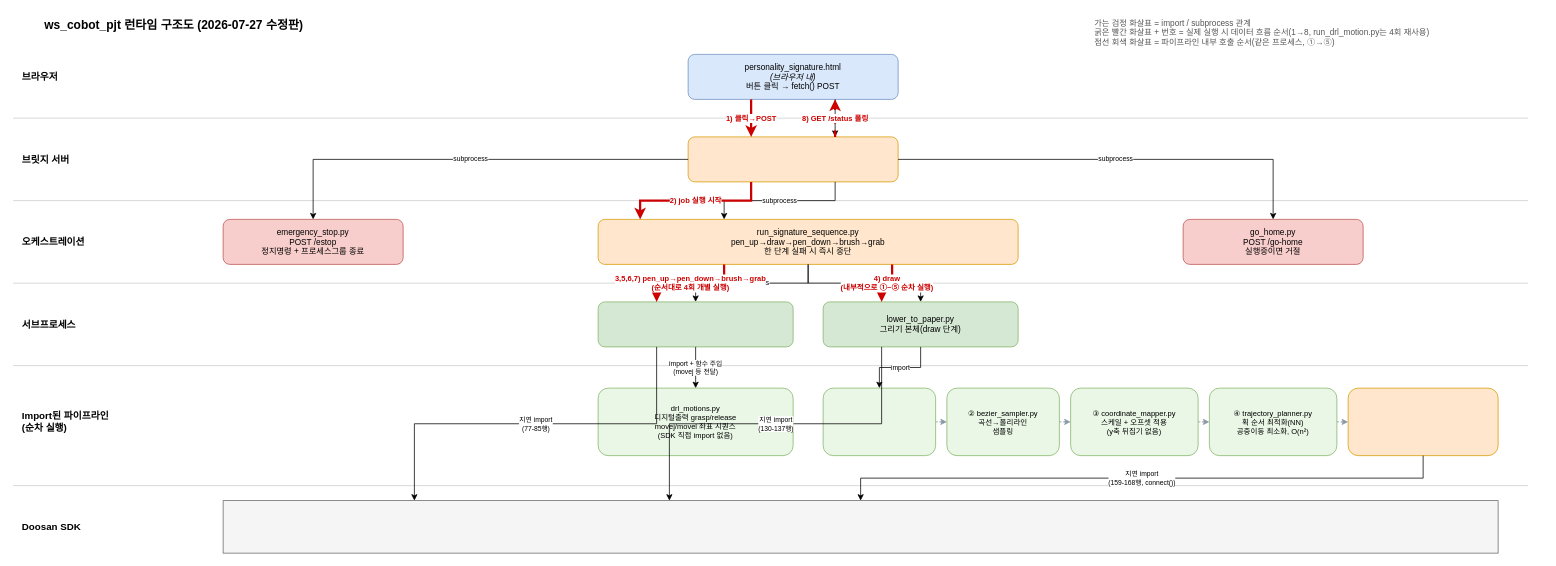
Image size: 1556x566. Some labels were removed from this diagram. Here are the shapes that lost their labels. From the top down, the centre of each, then its label:
At point (792, 159): "gui_bridge_server.py HTTP 서버 127.0.0.1:8787 (do_POST→job_id 발급→Thread 실행)".
At point (695, 324): "run_drl_motion.py pen_up/pen_down/brush/grab 개별 실행".
At point (879, 421): "① svg_parser.py SVG→획 리스트".
At point (1422, 421): "⑤ robot_controller.py 실제 movel 실행 + 힘제어 마지막 점만 radius=0".
At point (860, 526): "DR_init / DSR_ROBOT2 / DR_common2 — Doosan 로봇 SDK(공통 하부)".
